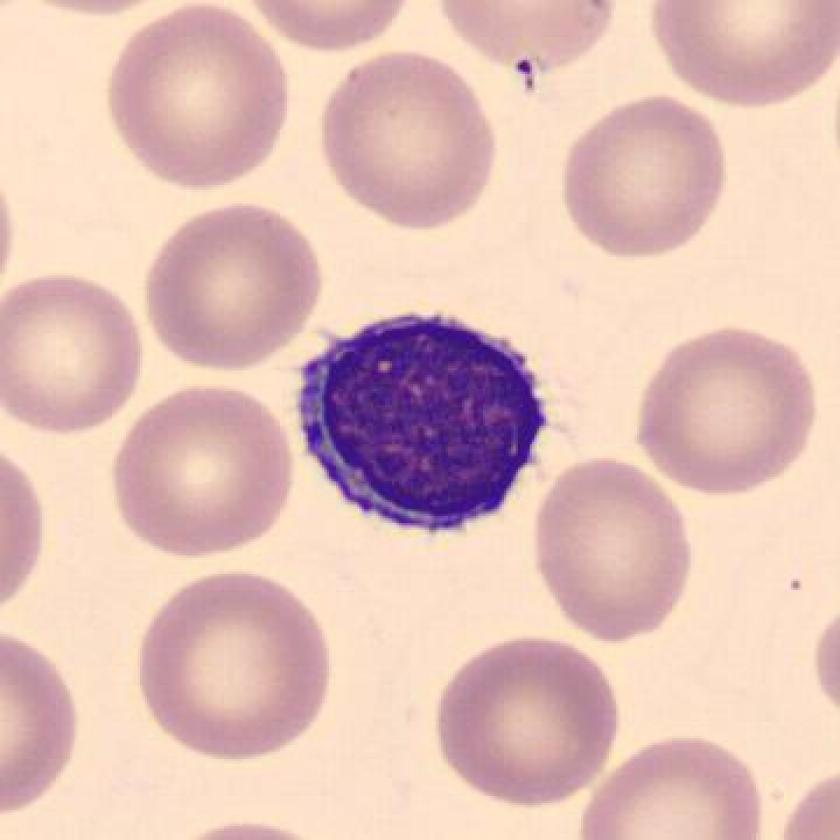lymphocyte: (281, 290, 566, 561)
